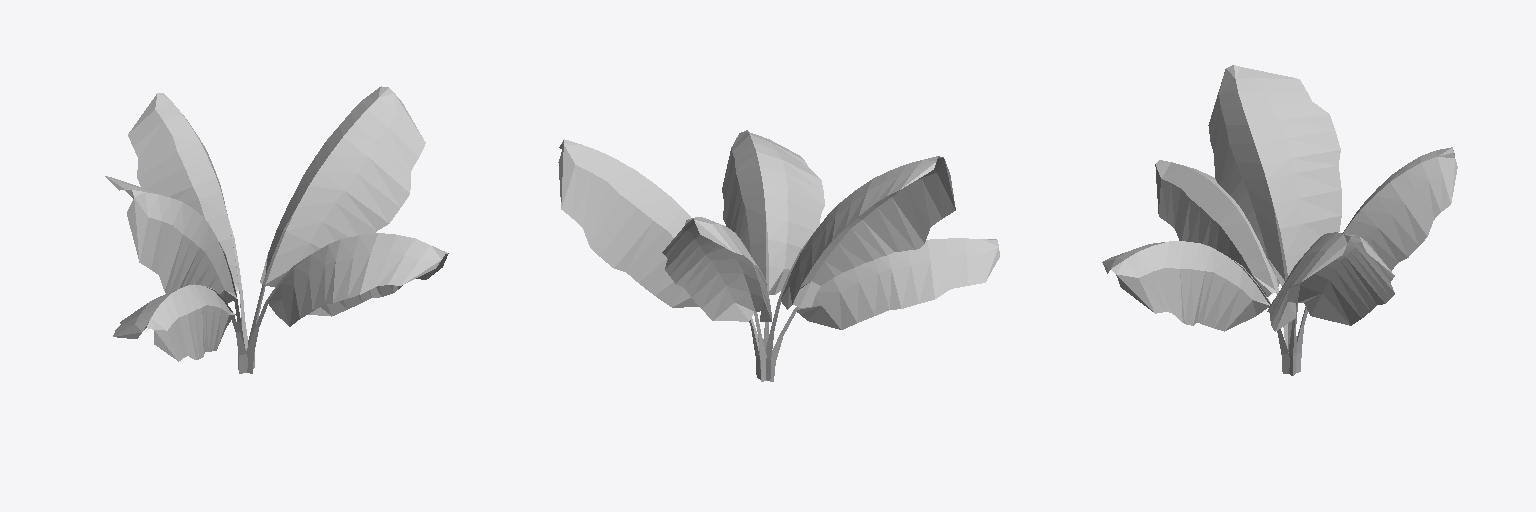
Rendered from banana plant 02.obj.
The picture shows the model from 3 angles: view 1: azimuth 30°, elevation 25°; view 2: azimuth 150°, elevation 25°; view 3: azimuth 270°, elevation 25°; orthographic projection.
Visible parts, largest first — view 1: tree; view 2: tree; view 3: tree.
Part boxes in pixels (bbox=[...]): tree: bbox=[105, 86, 448, 373]; tree: bbox=[558, 130, 999, 381]; tree: bbox=[1102, 65, 1457, 375].
Size of the model in its own units: 246 by 155 by 210.